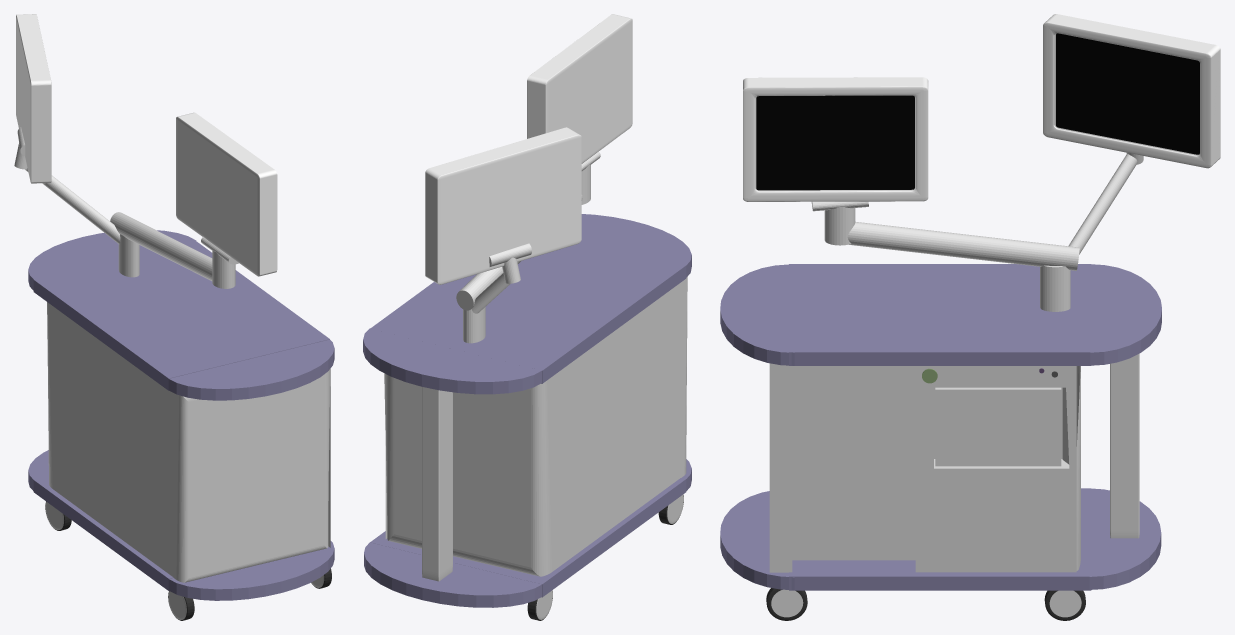
The model's file is medical_machine1.fbx.
3 renders of one model, left to right at view 1: azimuth 30°, elevation 25°; view 2: azimuth 150°, elevation 25°; view 3: azimuth 270°, elevation 25°, orthographic. The views are drawn at different scales.
Visible parts, largest first — view 1: Cube, Cube.001, Cube.003, Cylinder.001, Cube.006, Cylinder.002, Cylinder, Cube.002, Cylinder.009, Cylinder.017, Cylinder.008, Cylinder.010 (+3 smaller); view 2: Cube, Cube.001, Cube.006, Cube.003, Cylinder, Cylinder.003, Cube.004, Cube.002, Cylinder.001, Cylinder.009, Cylinder.008, Cylinder.017 (+3 smaller); view 3: Cube, Cube.001, Cube.003, Cube.006, Cube.002, Cylinder, Cylinder.001, Cylinder.009, Cube.004, Cylinder.003, Cylinder.002, Cylinder.017 (+4 smaller).
Boxes of the visible parts, left/top/right/bottom form: Cube: left=47, top=302, right=330, bottom=582; Cube.001: left=33, top=240, right=329, bottom=390; Cube.003: left=176, top=112, right=277, bottom=276; Cylinder.001: left=168, top=339, right=334, bottom=400; Cube.006: left=16, top=14, right=51, bottom=183; Cylinder.002: left=168, top=541, right=334, bottom=600; Cylinder: left=28, top=230, right=196, bottom=290; Cube.002: left=33, top=476, right=173, bottom=590; Cylinder.009: left=110, top=212, right=212, bottom=280; Cylinder.017: left=25, top=168, right=120, bottom=244; Cylinder.008: left=118, top=234, right=139, bottom=277; Cylinder.010: left=212, top=251, right=235, bottom=288; Cube: left=384, top=277, right=687, bottom=576; Cube.001: left=370, top=240, right=686, bottom=383; Cube.006: left=425, top=127, right=581, bottom=284; Cube.003: left=527, top=14, right=632, bottom=163; Cylinder: left=363, top=328, right=541, bottom=394; Cylinder.003: left=364, top=542, right=541, bottom=607; Cube.004: left=422, top=387, right=452, bottom=581; Cube.002: left=370, top=478, right=686, bottom=597; Cylinder.001: left=581, top=214, right=691, bottom=277; Cylinder.009: left=456, top=195, right=582, bottom=310; Cylinder.008: left=463, top=307, right=485, bottom=343; Cylinder.017: left=471, top=273, right=510, bottom=313; Cube: left=769, top=363, right=1080, bottom=572; Cube.001: left=789, top=264, right=1091, bottom=365; Cube.003: left=743, top=77, right=928, bottom=201; Cube.006: left=1043, top=14, right=1220, bottom=168; Cube.002: left=789, top=488, right=1091, bottom=590; Cylinder: left=1090, top=264, right=1161, bottom=365; Cylinder.001: left=720, top=264, right=794, bottom=365; Cylinder.009: left=847, top=221, right=1079, bottom=270; Cube.004: left=1110, top=353, right=1139, bottom=538; Cylinder.003: left=1089, top=488, right=1161, bottom=589; Cylinder.002: left=720, top=491, right=794, bottom=590; Cylinder.017: left=1068, top=153, right=1137, bottom=254.
Bounding box in the file's own units: 74.99 × 181 × 160.
